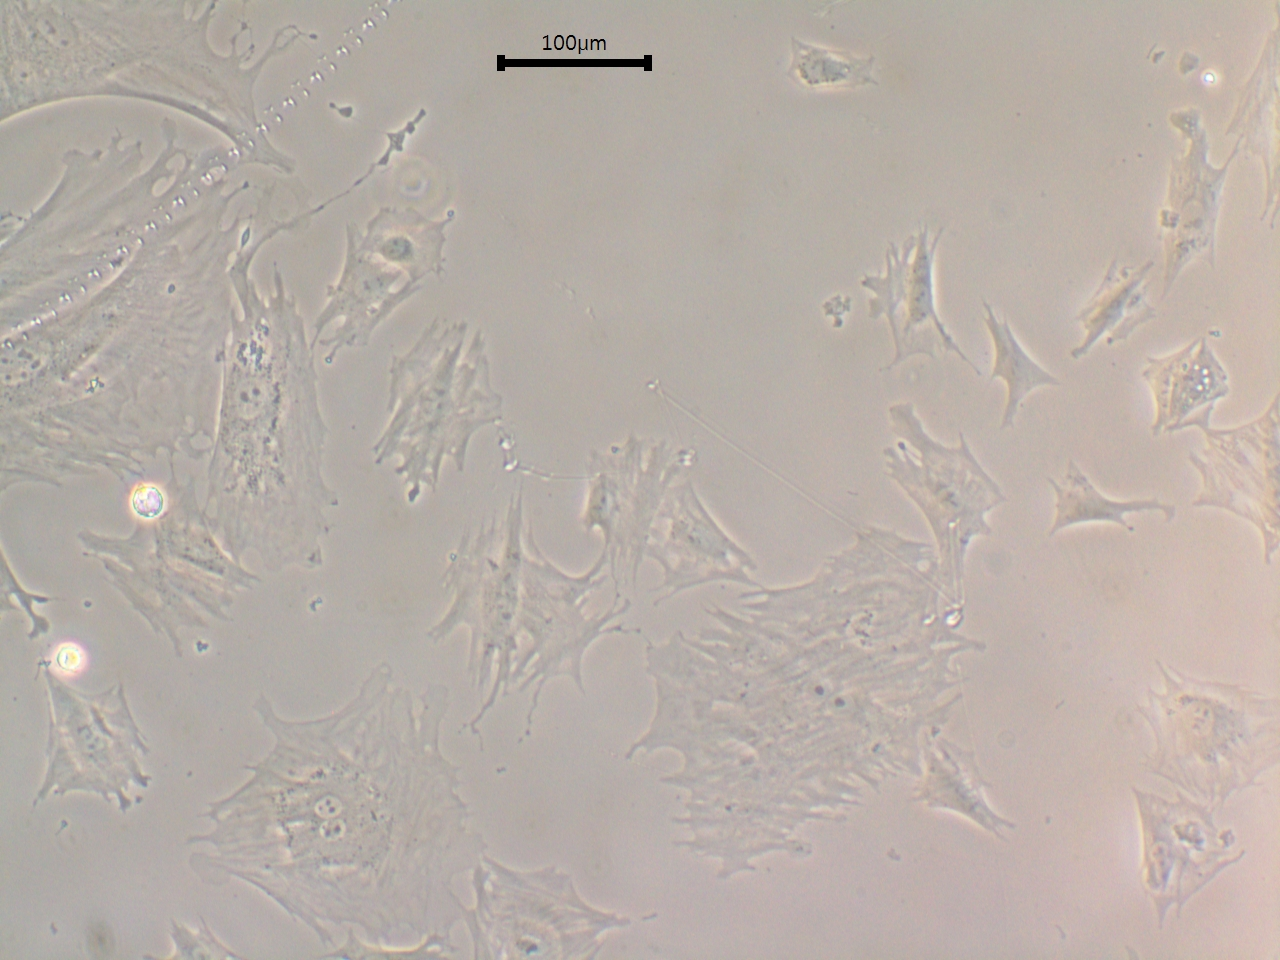medium-polygonal: (1049, 458, 1189, 555), (908, 737, 1023, 847), (1062, 228, 1152, 362), (984, 302, 1053, 444)
medium-spread: (408, 508, 612, 703), (353, 316, 508, 527), (569, 418, 711, 589), (1130, 647, 1271, 817), (23, 671, 144, 847), (828, 203, 962, 355), (890, 394, 990, 582), (305, 259, 404, 357), (361, 200, 460, 282)
